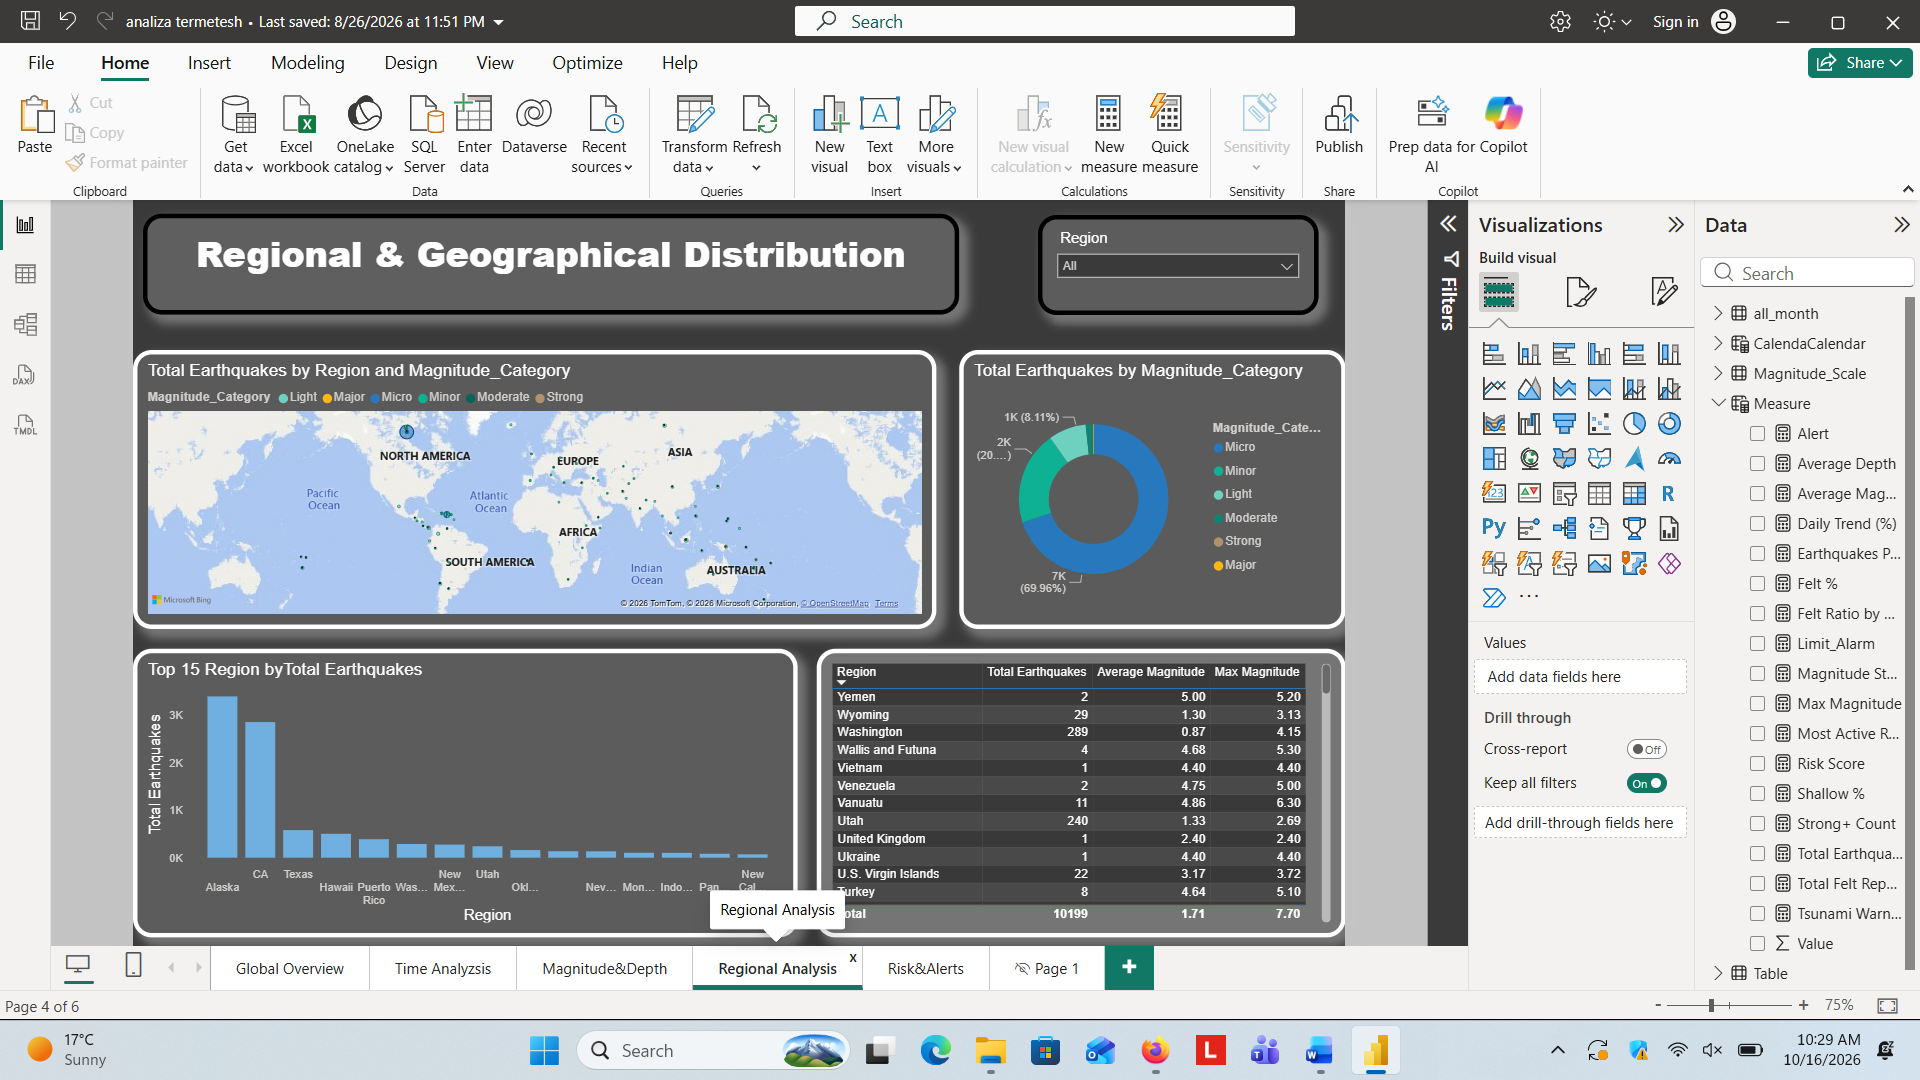

The dashboard page shown, as its layout file describes it:
{"tool":"powerbi","page":{"name":"Regional Analysis","canvas":[1300,800],"ordinal":3},"visuals":[{"type":"donutChart","fields":{"Category":["all_month.Magnitude_Category"],"Y":["Measure.Total Earthquakes"]},"box":[886.1,160.9,414.2,298.9],"z":0},{"type":"tableEx","fields":{"Values":["all_month.Region","Measure.Total Earthquakes","Measure.Average Magnitude","Measure.Max Magnitude"]},"box":[733.2,481.2,567,309.7],"z":1000},{"type":"columnChart","title":"Top 15 Region byTotal Earthquakes ","fields":{"Category":["all_month.Region"],"Y":["Measure.Total Earthquakes"]},"box":[0,481.2,713.1,309.7],"z":2000},{"type":"map","fields":{"Category":["all_month.Region"],"Series":["all_month.Magnitude_Category"],"Size":["Measure.Total Earthquakes"]},"box":[0,160.9,861.9,298.9],"z":3000},{"type":"slicer","fields":{"Values":["all_month.Region"]},"box":[970,15.7,300.4,107.4],"z":4000},{"type":"textbox","box":[10.9,15,875.1,108],"z":5000}]}

Visuals, with their boxes on the page's 1300x800 design canvas (x1, y1, x2, y2). These are canvas units, not pixel positions in the 1920x1080 screenshot, which may show the page scaled, cropped or inside an application window:
donutChart - all_month.Magnitude_Category x Measure.Total Earthquakes: <region>886, 161, 1300, 460</region>
tableEx - all_month.Region x Measure.Total Earthquakes: <region>733, 481, 1300, 791</region>
"Top 15 Region byTotal Earthquakes " columnChart: <region>0, 481, 713, 791</region>
map - all_month.Region x all_month.Magnitude_Category: <region>0, 161, 862, 460</region>
slicer - all_month.Region: <region>970, 16, 1270, 123</region>
textbox: <region>11, 15, 886, 123</region>
